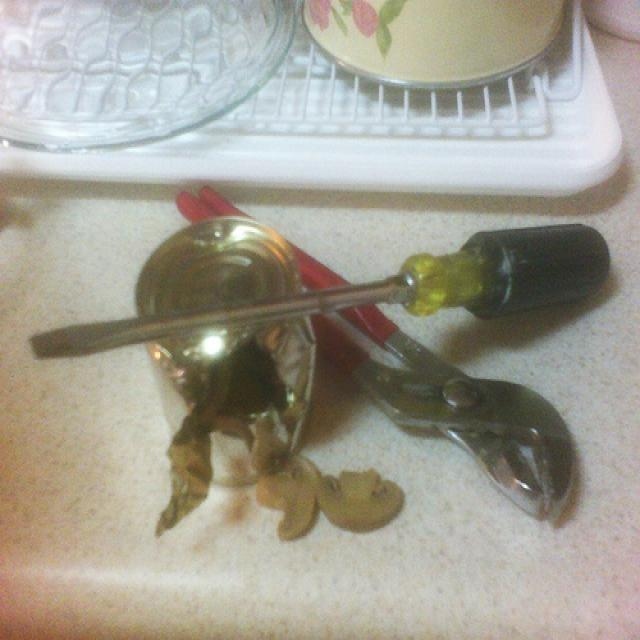pliers: (173, 164, 586, 530)
screwdriver: (14, 206, 618, 377)
